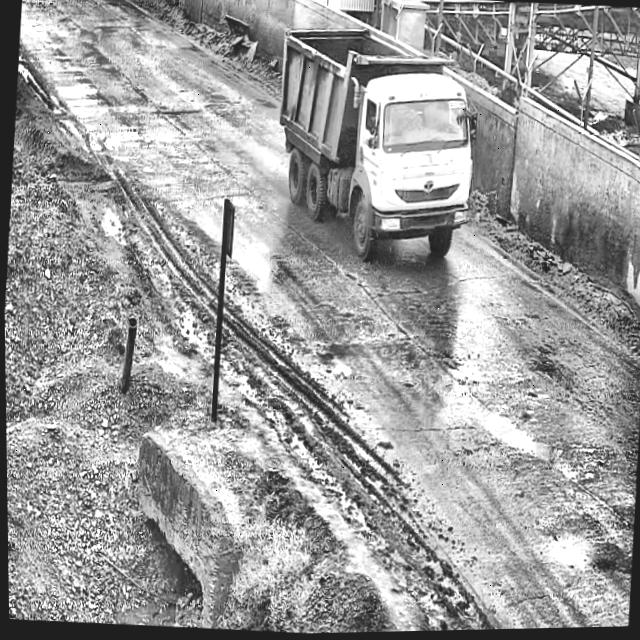dump_truck: (267, 32, 479, 243)
